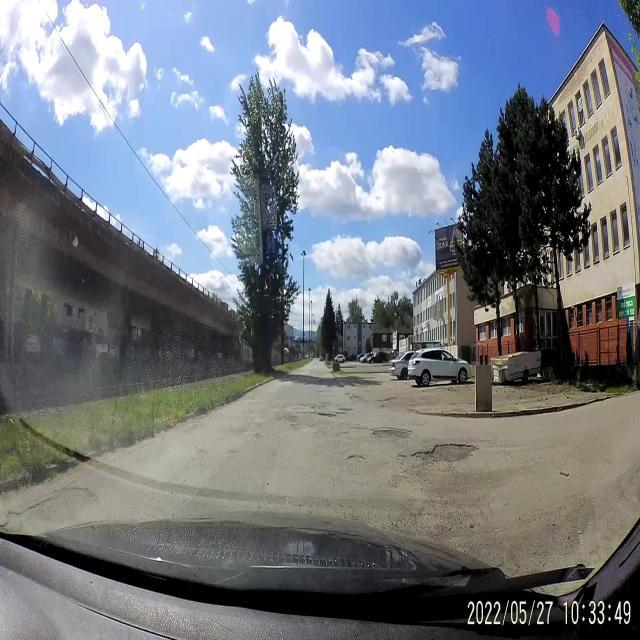Pothole: (4, 482, 101, 542), (412, 442, 478, 471), (373, 423, 412, 446), (308, 407, 336, 423), (347, 450, 367, 468)
